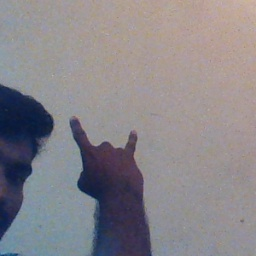V: (65, 109, 150, 199)
